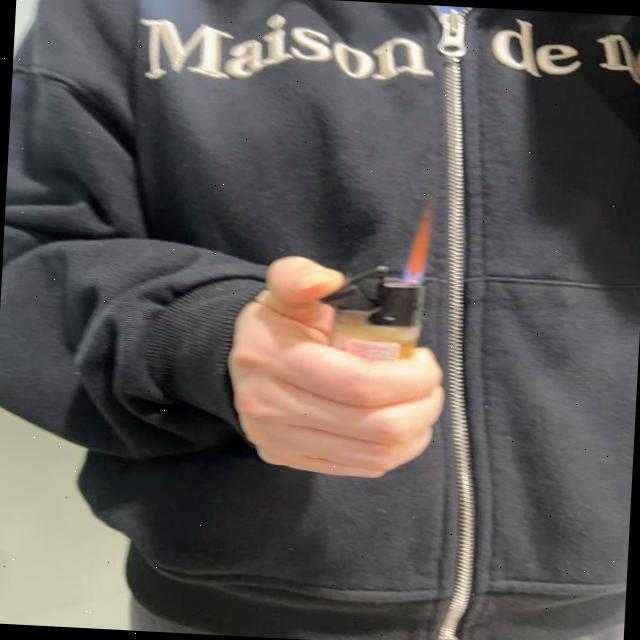fire: (406, 203, 434, 282)
